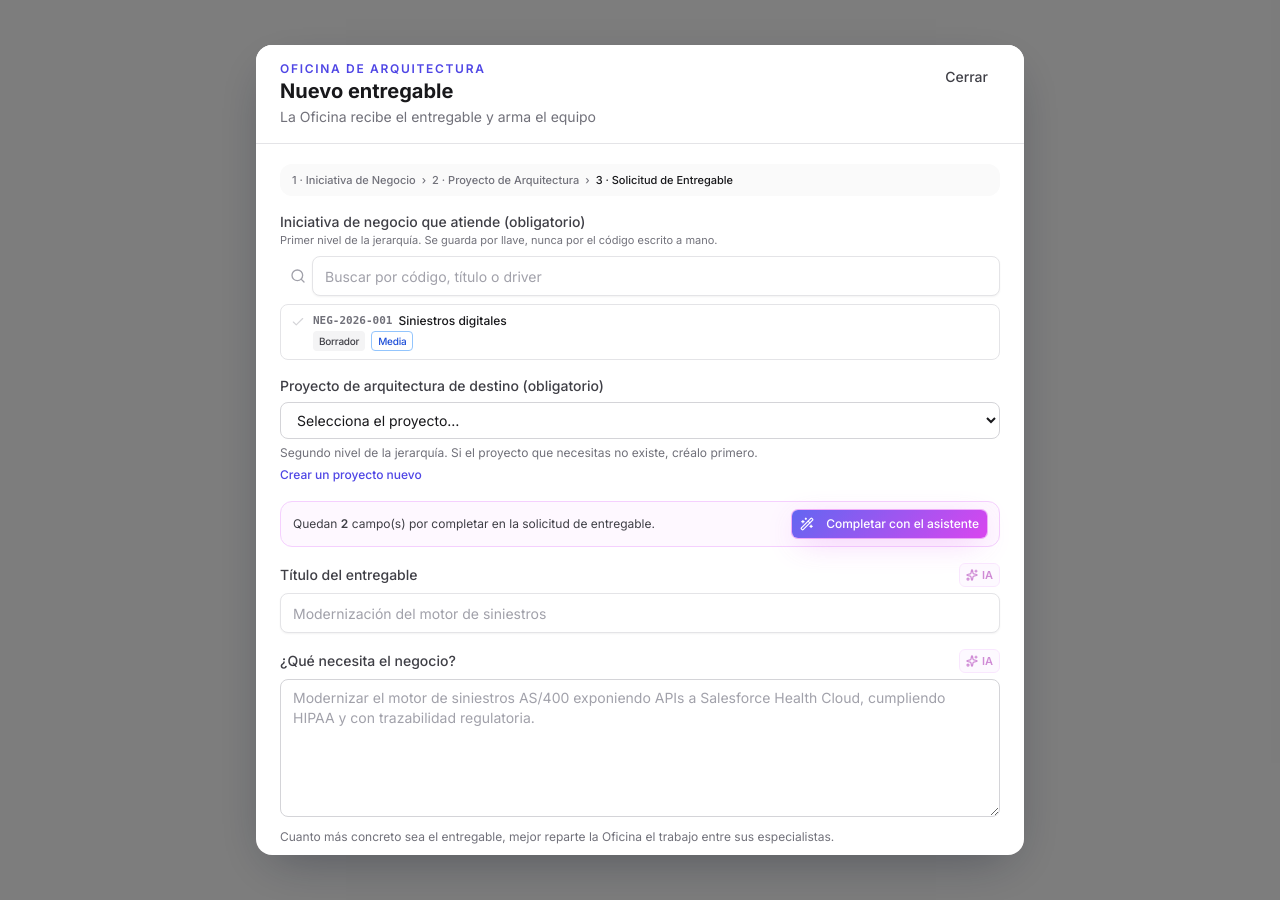
Test case: EngagementIntakeWizard — la jerarquía es obligatoria › refuses to plan a deliverable with no project to live in
Click the button "NEG-2026-001 Siniestros digitales Borrador Media": (353, 320) [280,304,1000,360]
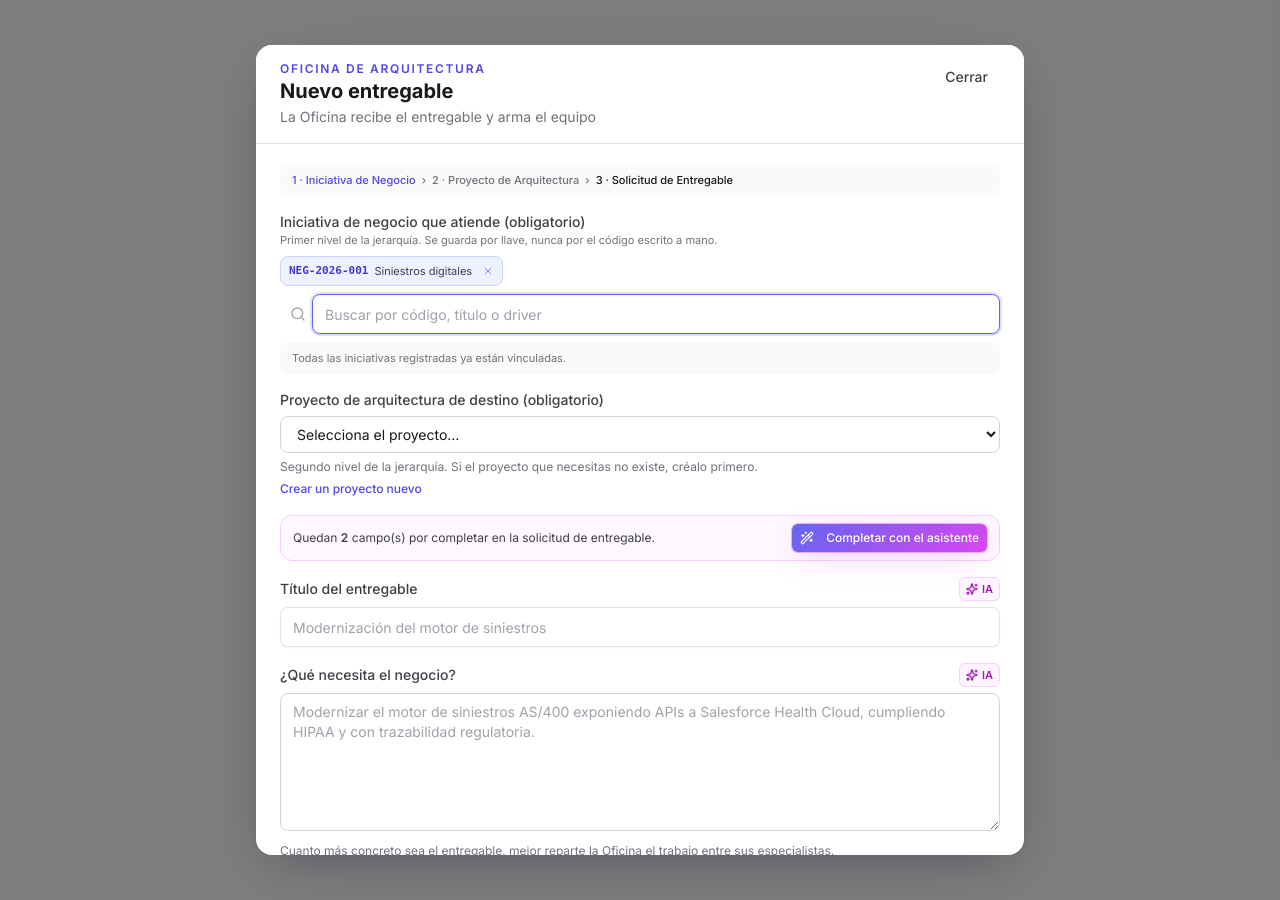
In the field labelled "Título del entregable": (640, 627) [280,607,1000,647], type "Modernización de siniestros"
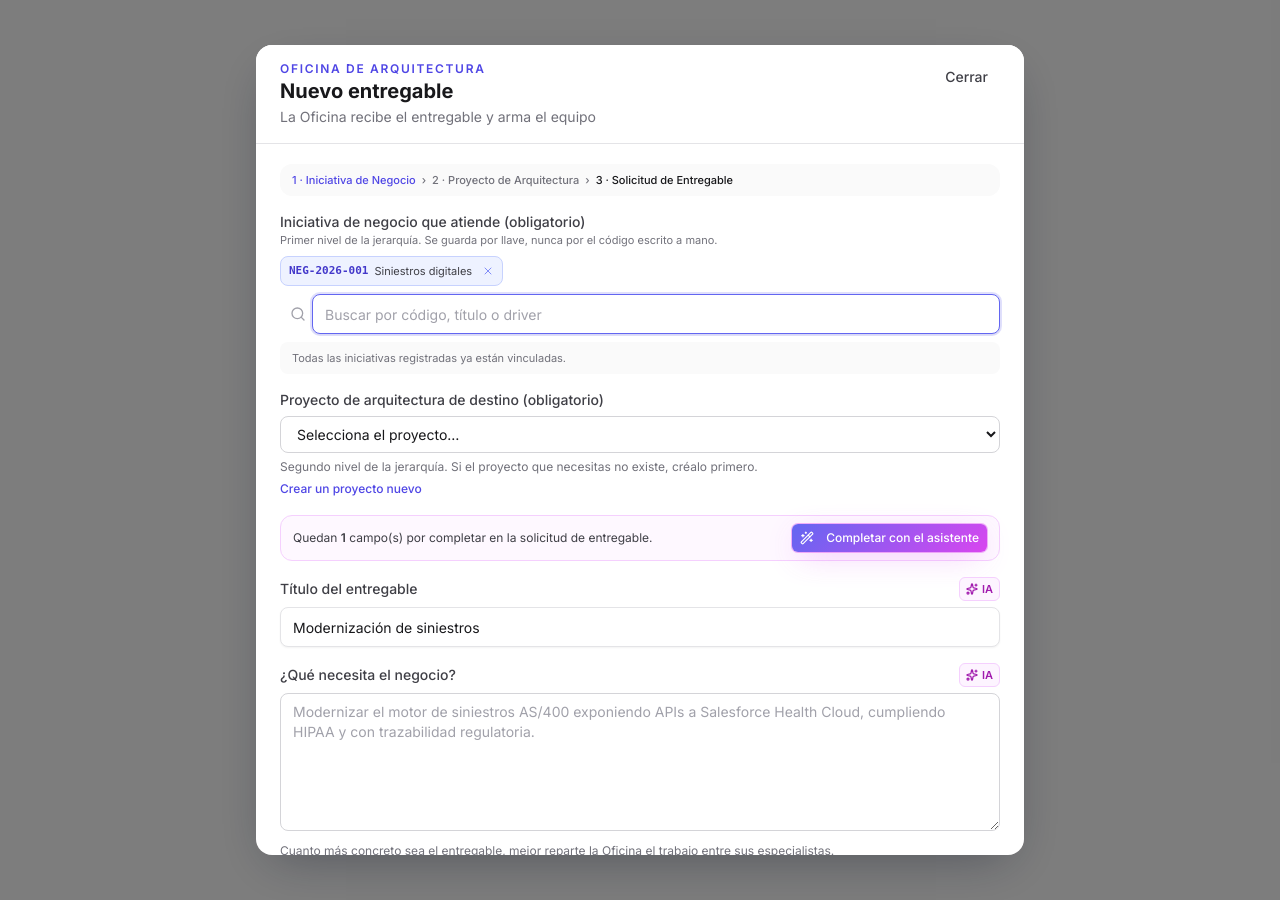
Replace the text in the text box labelled "¿Qué necesita el negocio?" with "Modernizar el motor de siniestros AS/400 exponiendo APIs a Salesforce, cumpliendo HIPAA.": (640, 762) [280,693,1000,831]
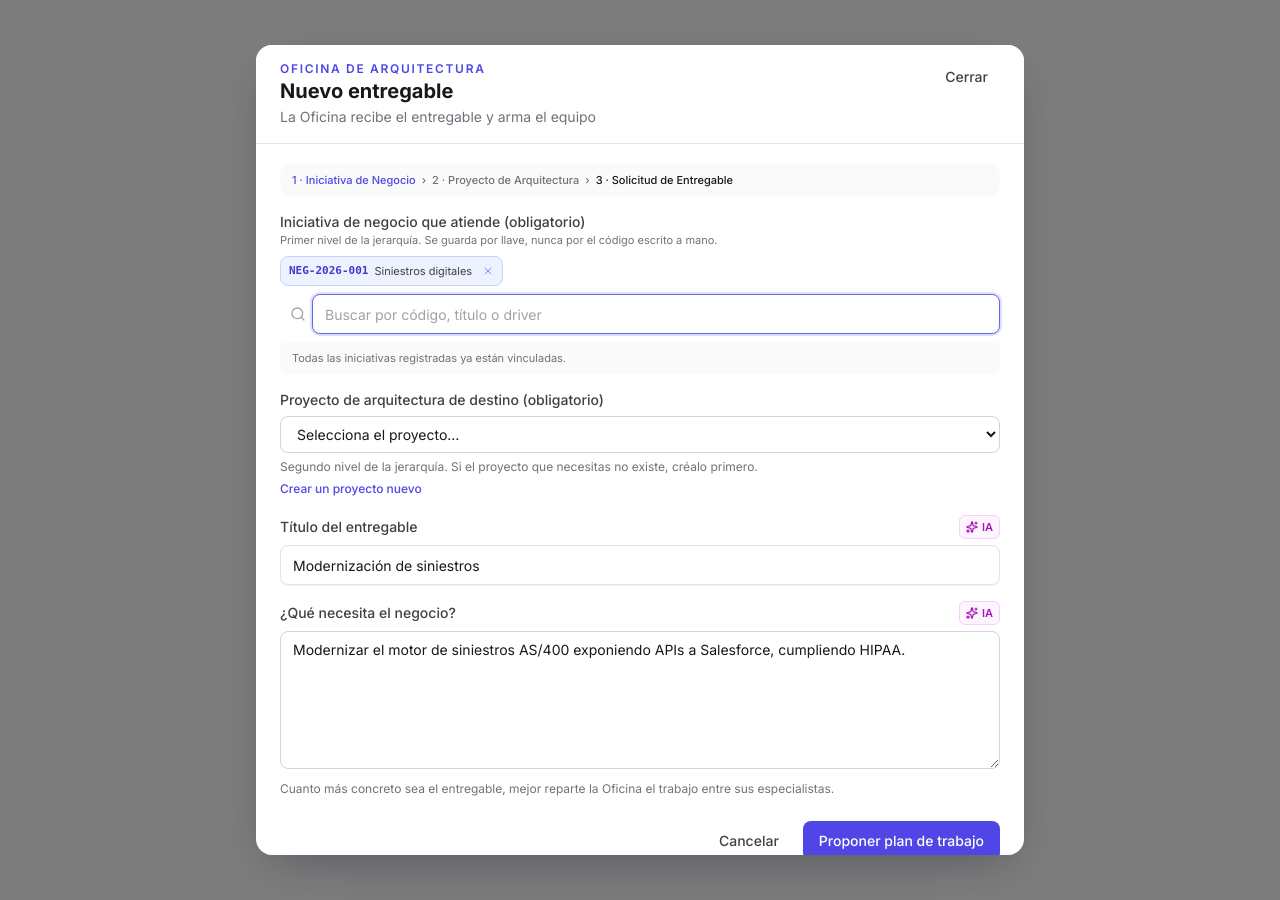
Click the button "Proponer plan de trabajo": (901, 841) [803,821,1000,861]
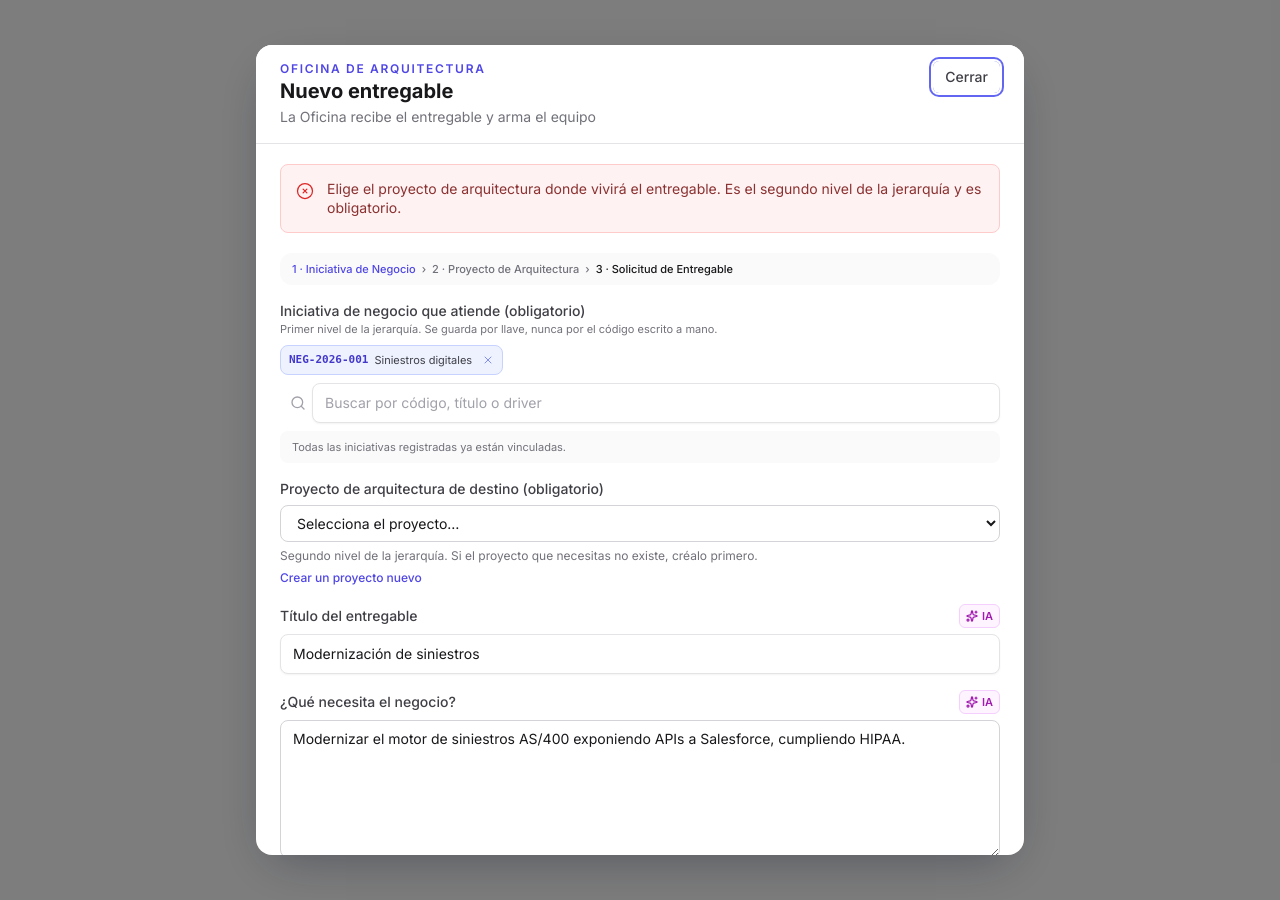
Result: the text "proyecto de arquitectura donde vivirá el entregable" is shown at [327,180,981,216]
